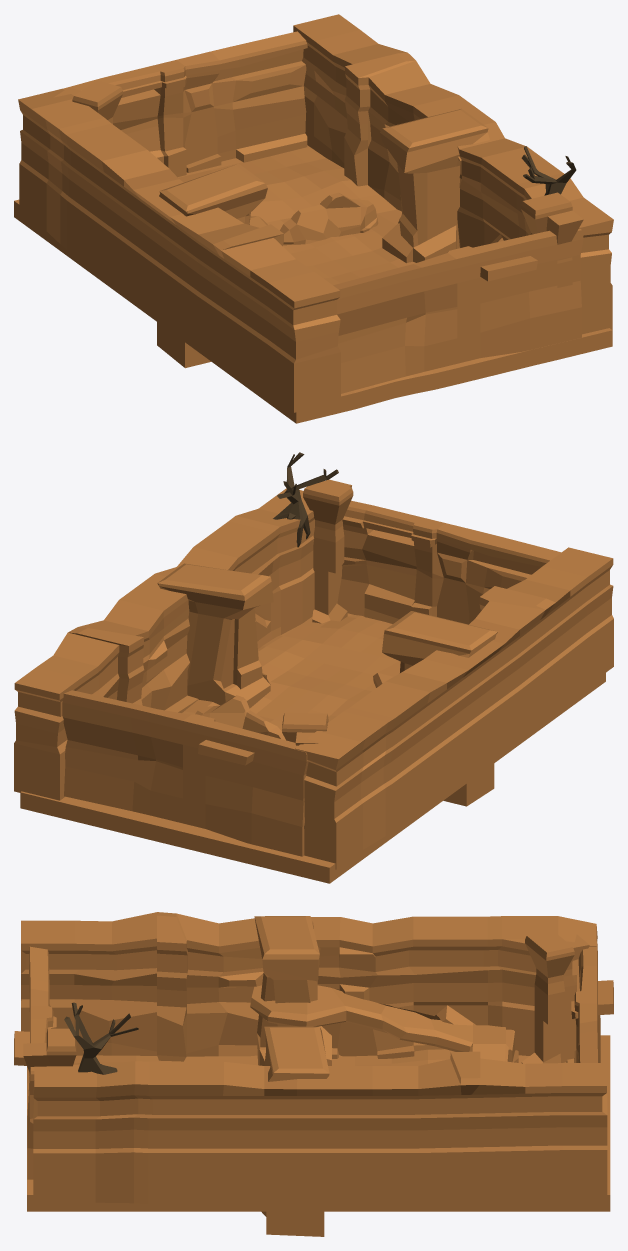
File: EarthArena3.fbx
3 views of the same model, one above another, from view 1: azimuth 30°, elevation 25°; view 2: azimuth 150°, elevation 25°; view 3: azimuth 270°, elevation 25° (orthographic). The views are drawn at different scales.
Parts seen in each view (by area): view 1: Arena, Wall, Tree; view 2: Arena, Wall, Tree; view 3: Arena, Ramp, Tree.
Boxes of the visible parts, x1=… form: Arena: x1=14, y1=14, x2=613, y2=423; Wall: x1=280, y1=192, x2=378, y2=245; Tree: x1=521, y1=146, x2=576, y2=195; Arena: x1=14, y1=479, x2=613, y2=883; Wall: x1=195, y1=695, x2=285, y2=740; Tree: x1=273, y1=452, x2=338, y2=547; Arena: x1=14, y1=912, x2=613, y2=1236; Ramp: x1=250, y1=985, x2=518, y2=1062; Tree: x1=64, y1=1002, x2=138, y2=1074.
Size of the model in its own units: 3747 by 2188 by 5496.
